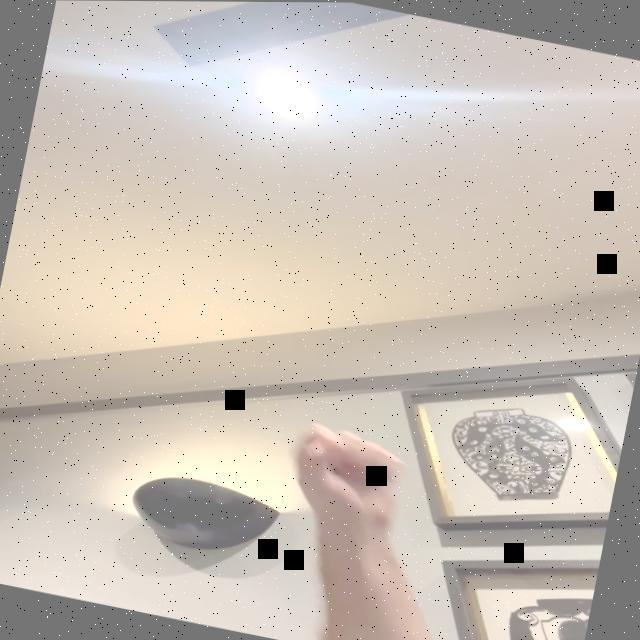Rock: (280, 418, 411, 525)
